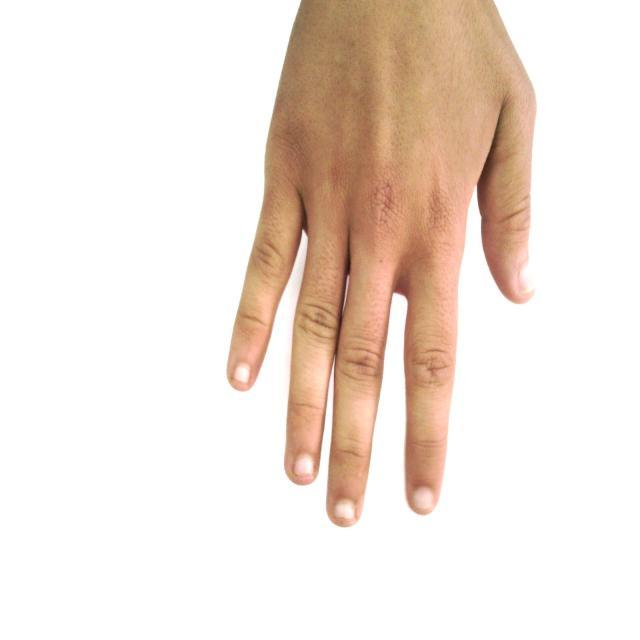Fingernail: (293, 453, 314, 475), (413, 487, 433, 510), (520, 266, 536, 294), (335, 498, 356, 519), (234, 364, 249, 384)
